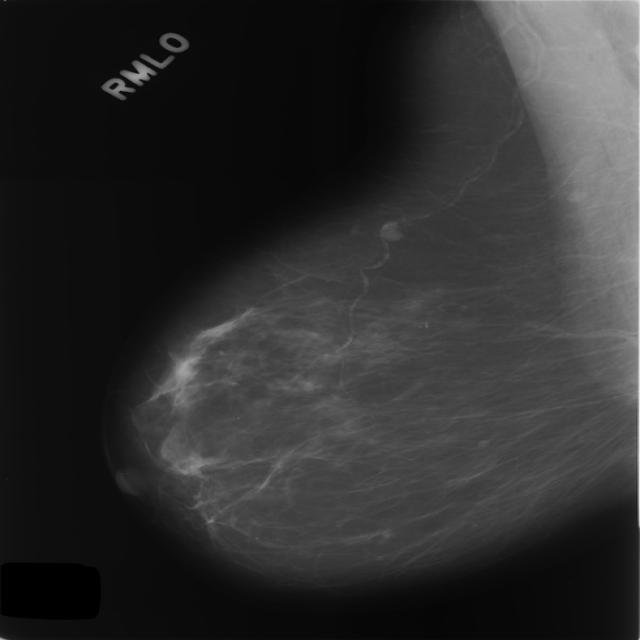tumour: (376, 219, 402, 241)
